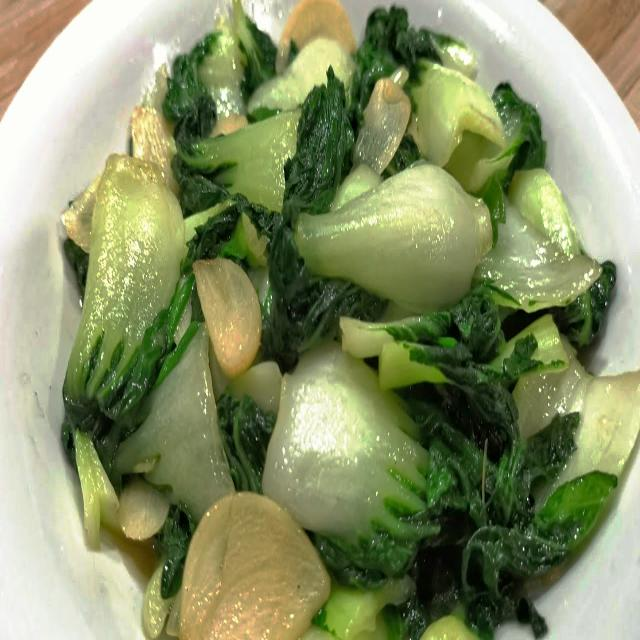chinese_cabbage: (88, 30, 614, 627)
